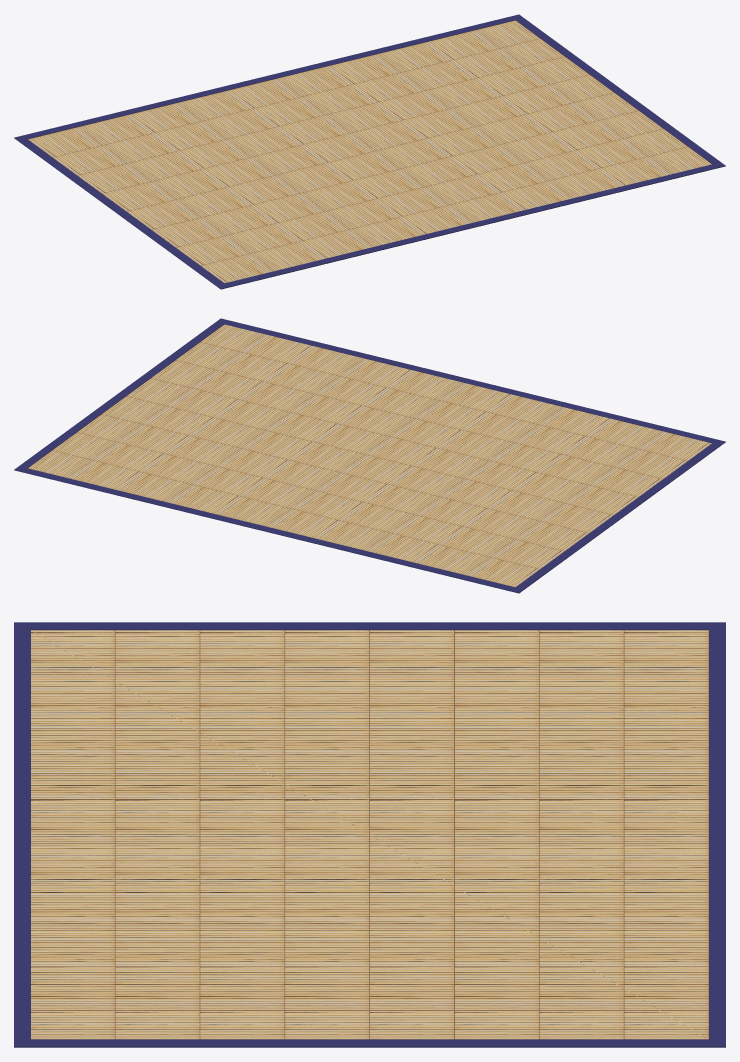
3 renders of one model, top to bottom at view 1: azimuth 30°, elevation 25°; view 2: azimuth 150°, elevation 25°; view 3: azimuth 270°, elevation 25°, orthographic. The views are drawn at different scales.
Parts seen in each view (by area): view 1: 카펫; view 2: 카펫; view 3: 카펫.
Part boxes in pixels (left/top/right/bottom): 카펫: left=14, top=14, right=725, bottom=289; 카펫: left=14, top=318, right=725, bottom=593; 카펫: left=14, top=622, right=725, bottom=1047.
Size of the model in its own units: 118 by 0.1181 by 83.82.
